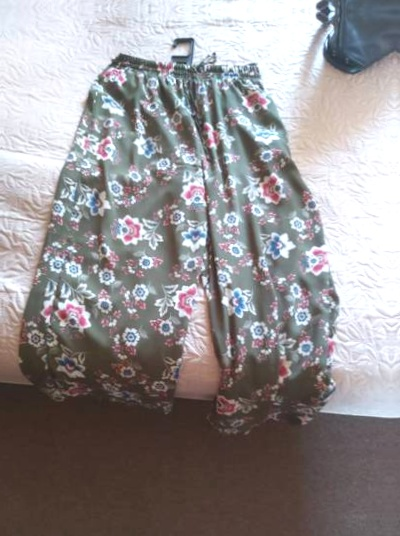Pants: (30, 45, 345, 452)
